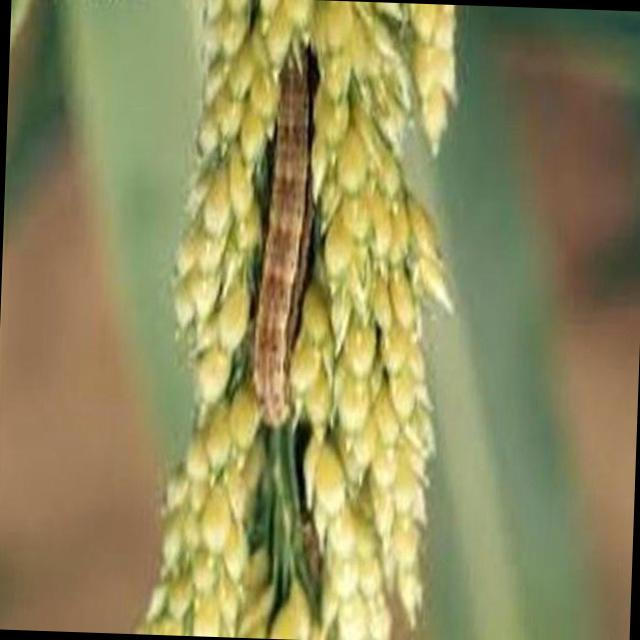pest: (255, 70, 327, 422)
